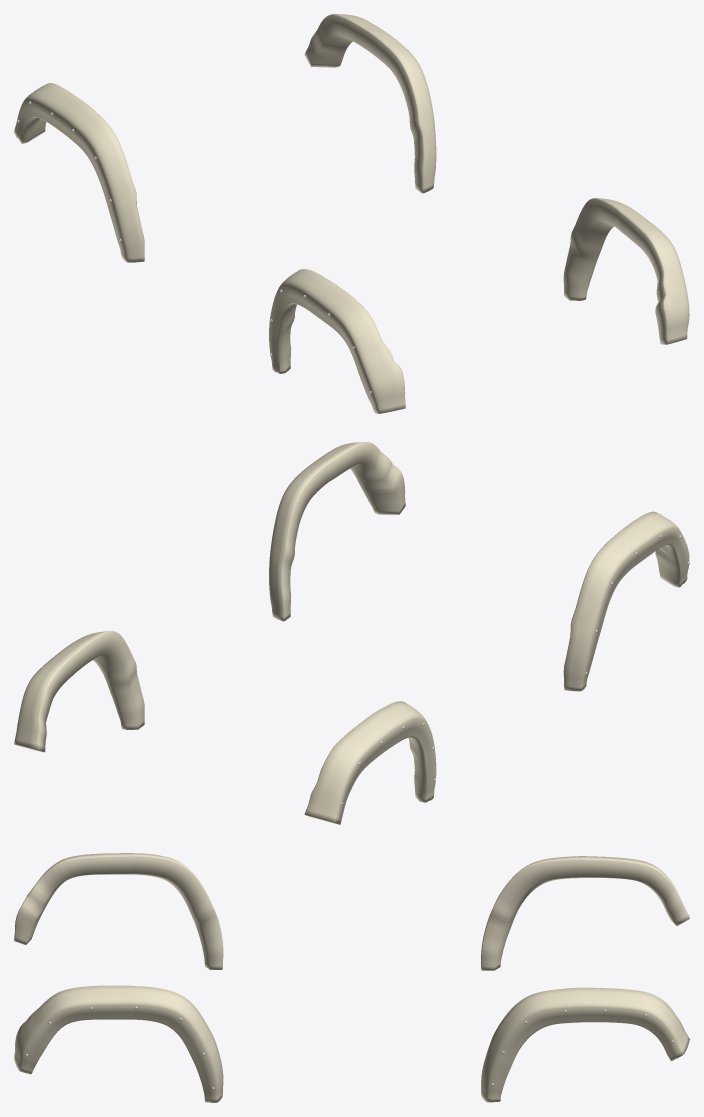
File: fender_lb_gmini.glb
3 renders of one model, top to bottom at view 1: azimuth 30°, elevation 25°; view 2: azimuth 150°, elevation 25°; view 3: azimuth 270°, elevation 25°, orthographic. The views are drawn at different scales.
Visible parts, largest first — view 1: front-1.002, rear-1.002, front1.002, rear1.002; view 2: front-1.002, front1.002, rear-1.002, rear1.002; view 3: front1.002, rear1.002, front-1.002, rear-1.002.
Boxes of the visible parts, box(x1,y1,x2,y2) form: front-1.002: box(269, 269, 405, 413); rear-1.002: box(14, 83, 144, 262); front1.002: box(563, 198, 689, 344); rear1.002: box(304, 14, 436, 193); front-1.002: box(563, 511, 689, 691); front1.002: box(269, 442, 405, 621); rear-1.002: box(304, 701, 436, 824); rear1.002: box(14, 631, 144, 752); front1.002: box(14, 985, 223, 1102); rear1.002: box(481, 987, 689, 1102); front-1.002: box(14, 853, 223, 969); rear-1.002: box(481, 856, 689, 970).
Size of the model in its own units: 1.62 by 0.5679 by 3.08.
